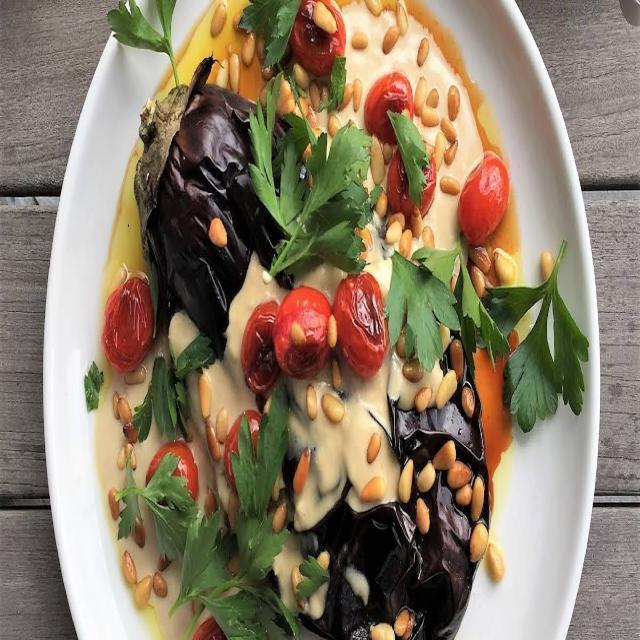fried eggplant: (140, 86, 483, 635)
